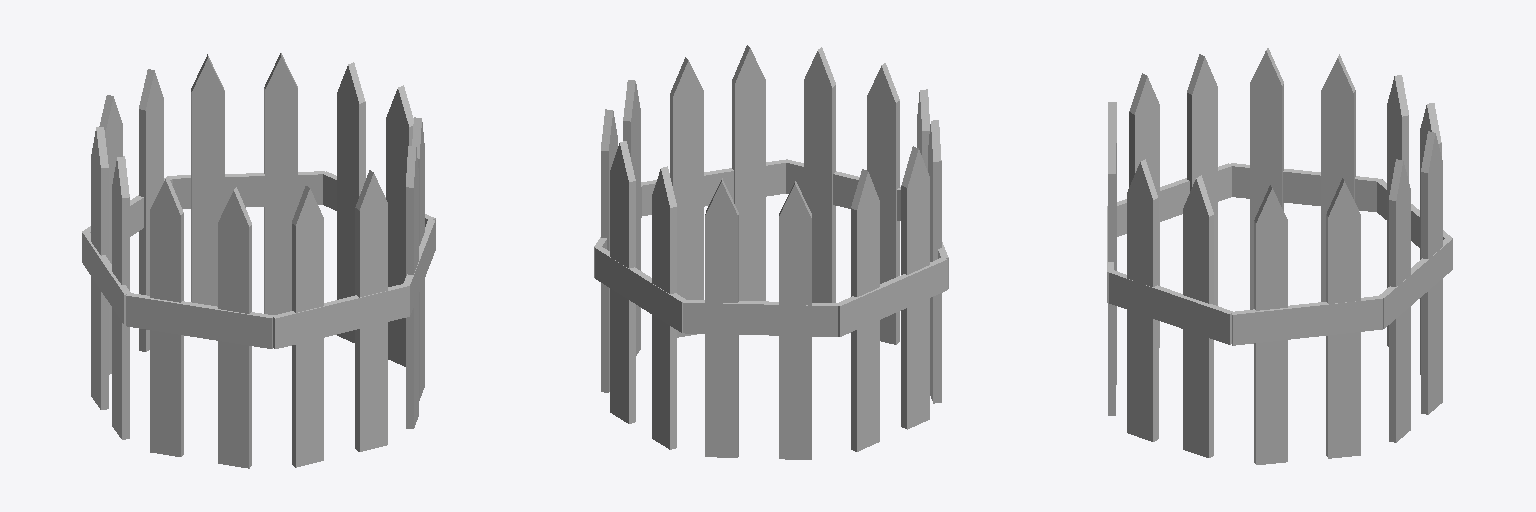
The model's file is torch_bars.obj.
3 views of the same model, side by side, from view 1: azimuth 30°, elevation 25°; view 2: azimuth 150°, elevation 25°; view 3: azimuth 270°, elevation 25° (orthographic).
Parts seen in each view (by area): view 1: Torch_Bars; view 2: Torch_Bars; view 3: Torch_Bars.
Boxes of the visible parts, x1,y1,x2,y2 form: Torch_Bars: [82, 53, 435, 468]; Torch_Bars: [594, 45, 948, 459]; Torch_Bars: [1107, 48, 1452, 464].
Bounding box in the file's own units: 0.095 × 0.0806 × 0.0913.